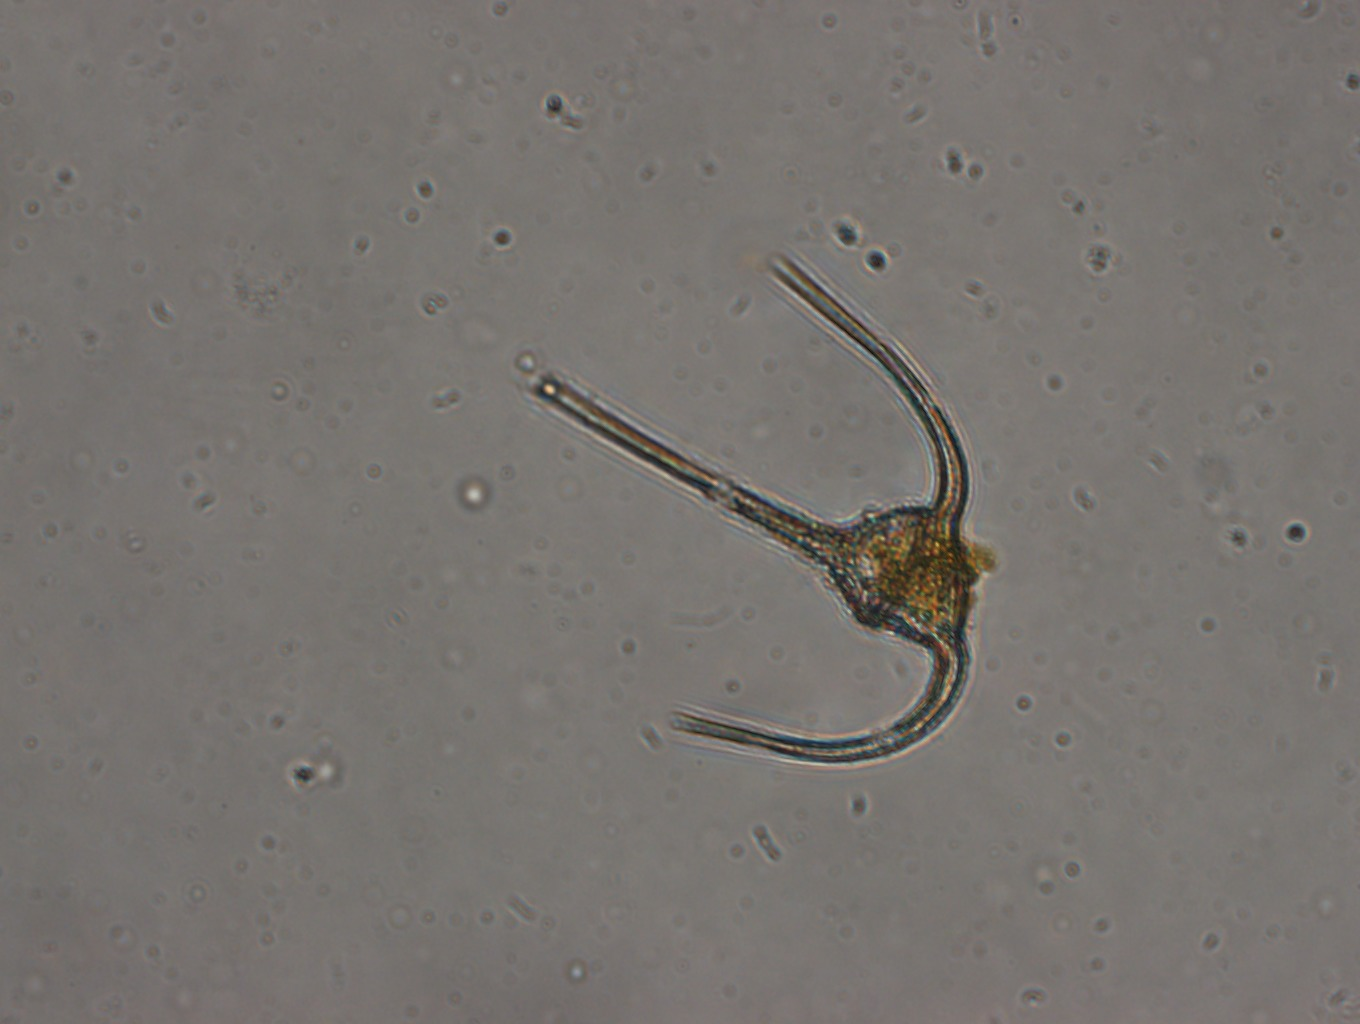ceratium trichoceros: (518, 247, 987, 777)
